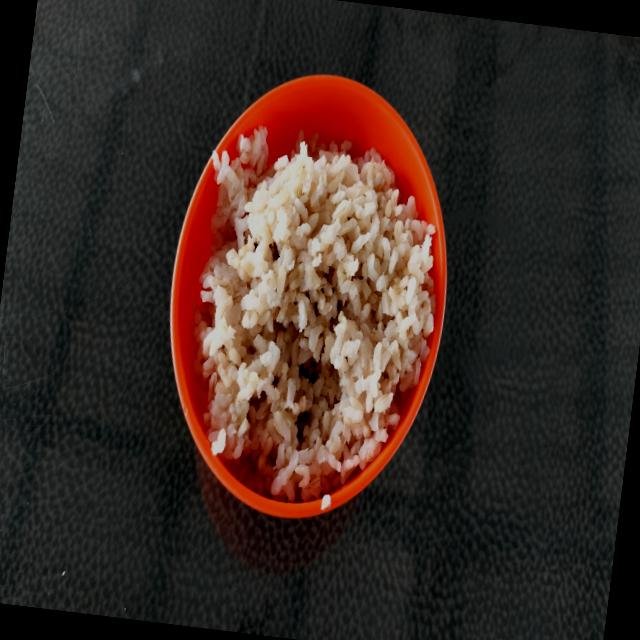brown-rice: (192, 126, 435, 502)
